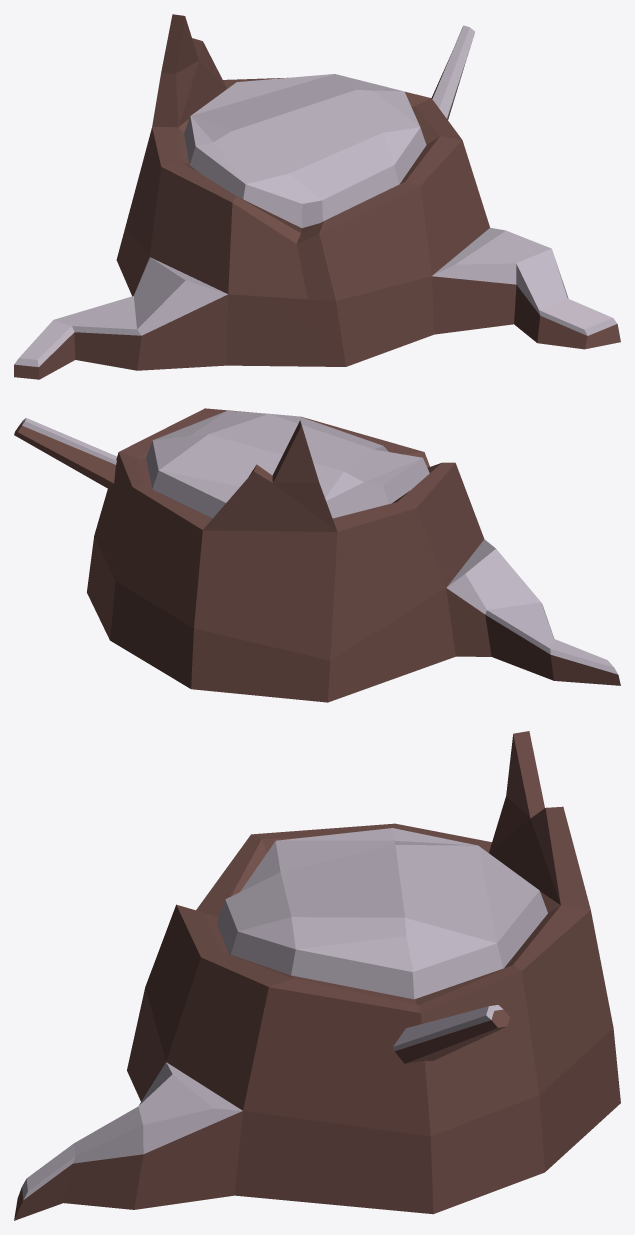
Rendered from TreeStump_Snow.glb.
3 views of the same model, one above another, from view 1: azimuth 30°, elevation 25°; view 2: azimuth 150°, elevation 25°; view 3: azimuth 270°, elevation 25° (orthographic). The views are drawn at different scales.
Parts seen in each view (by area): view 1: TreeStump_Snow; view 2: TreeStump_Snow; view 3: TreeStump_Snow.
Part boxes in pixels (x1,y1,x2,y2): TreeStump_Snow: (14, 14, 620, 379); TreeStump_Snow: (14, 408, 620, 702); TreeStump_Snow: (14, 731, 620, 1220).
Bounding box in the file's own units: 1.36 × 0.6216 × 1.03.
